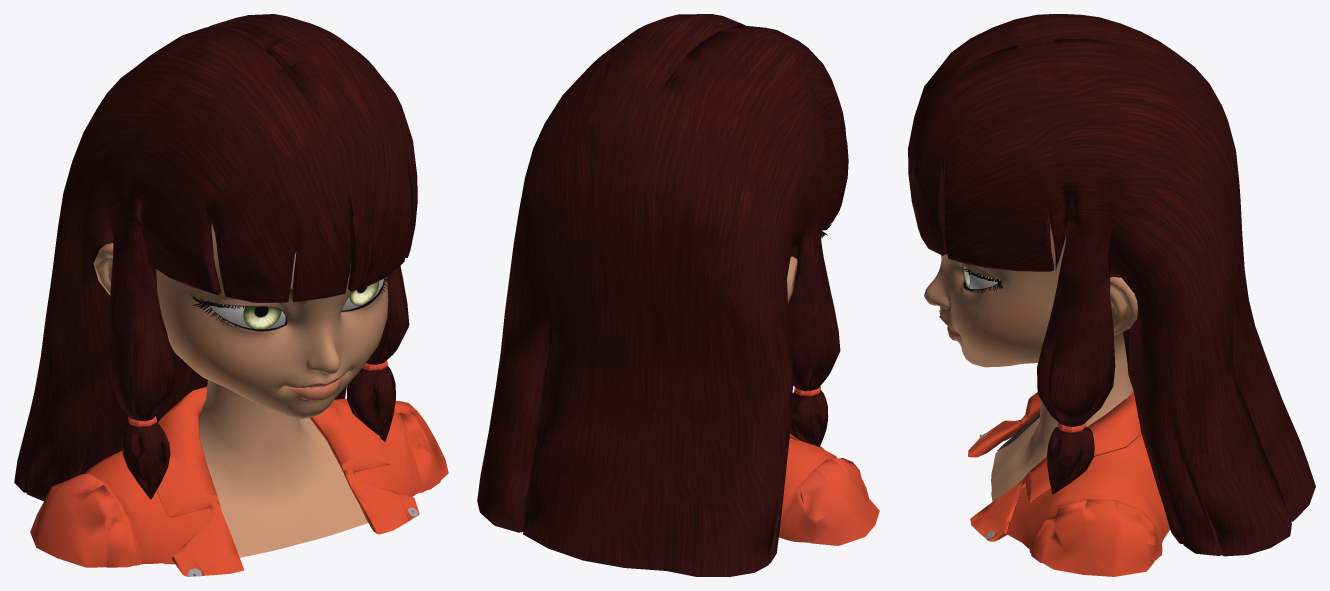
Rendered from girl2.glb.
3 renders of one model, left to right at view 1: azimuth 30°, elevation 25°; view 2: azimuth 150°, elevation 25°; view 3: azimuth 270°, elevation 25°, orthographic. The views are drawn at different scales.
Visible parts, largest first — view 1: Object_5, Object_4, Object_8, Object_10; view 2: Object_5, Object_8; view 3: Object_5, Object_8, Object_4.
Part boxes in pixels (<box>): Object_5: <box>14,14,417,501</box>; Object_4: <box>93,223,388,557</box>; Object_8: <box>30,387,448,576</box>; Object_10: <box>210,279,383,329</box>; Object_5: <box>477,14,848,576</box>; Object_8: <box>779,434,879,545</box>; Object_5: <box>908,14,1315,556</box>; Object_8: <box>968,390,1170,576</box>; Object_4: <box>924,214,1137,501</box>.
Size of the model in its own units: 0.4678 by 0.5395 by 0.4356.
8 materials, 6 textured.
